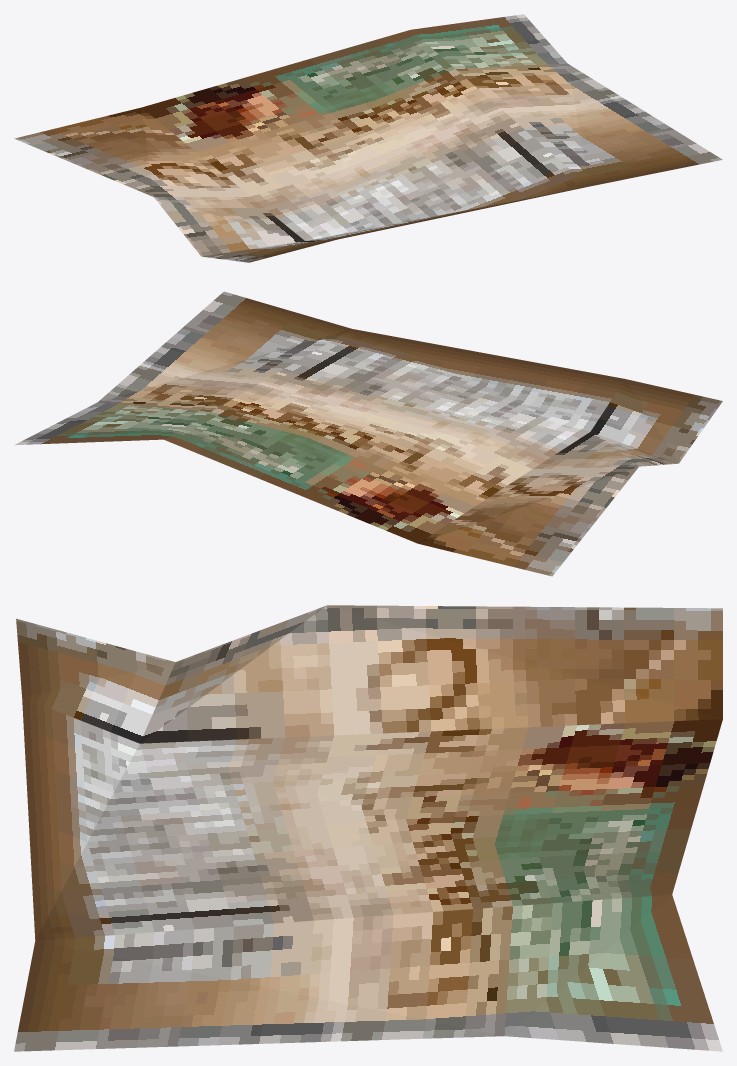
The model's file is candy_wrapper.fbx.
3 renders of one model, top to bottom at view 1: azimuth 30°, elevation 25°; view 2: azimuth 150°, elevation 25°; view 3: azimuth 270°, elevation 25°, orthographic. The views are drawn at different scales.
Visible parts, largest first — view 1: mesh_0; view 2: mesh_0; view 3: mesh_0.
Boxes of the visible parts, box(x1,y1,x2,y2) form: mesh_0: box(14, 14, 722, 262); mesh_0: box(14, 291, 722, 576); mesh_0: box(14, 605, 722, 1051).
Bounding box in the file's own units: 18 × 1.34 × 12.16.
Materials: 1 (1 with a texture image).
